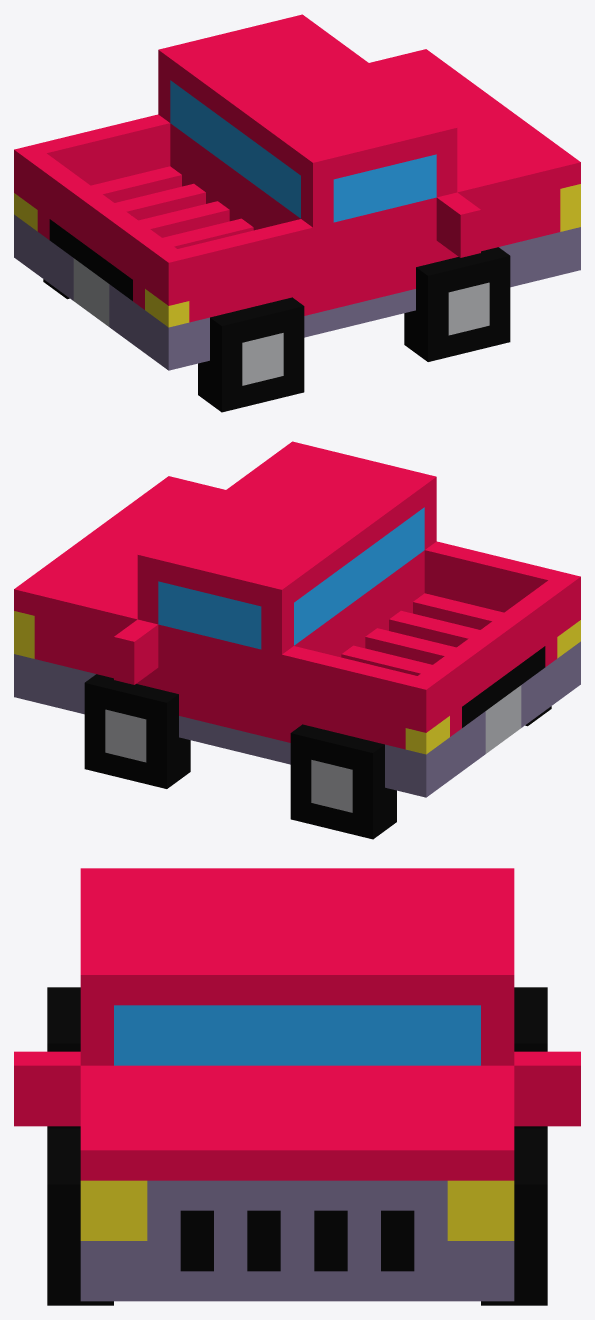
The model's file is pickup_a.obj.
3 renders of one model, top to bottom at view 1: azimuth 30°, elevation 25°; view 2: azimuth 150°, elevation 25°; view 3: azimuth 270°, elevation 25°, orthographic. The views are drawn at different scales.
Bounding box in the file's own units: 2 × 1 × 1.7.
1 material, 1 textured.
